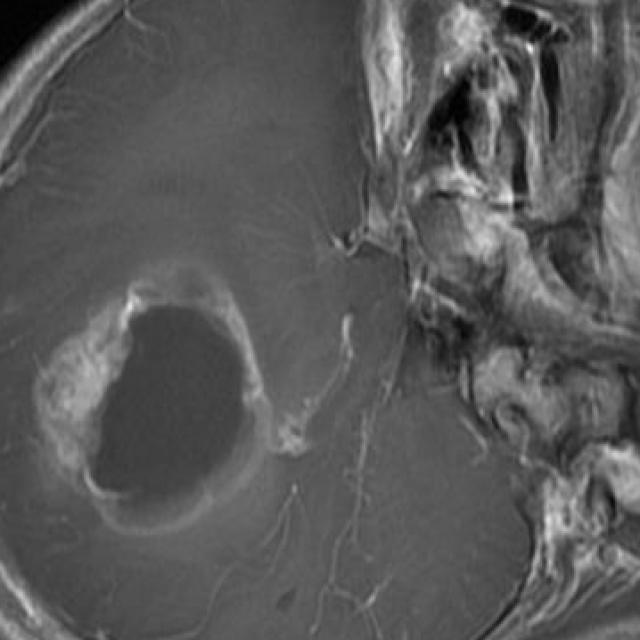glioma: (32, 262, 319, 538)
